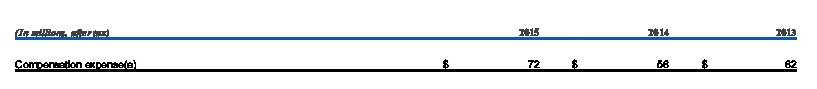table: (0, 0, 817, 89)
